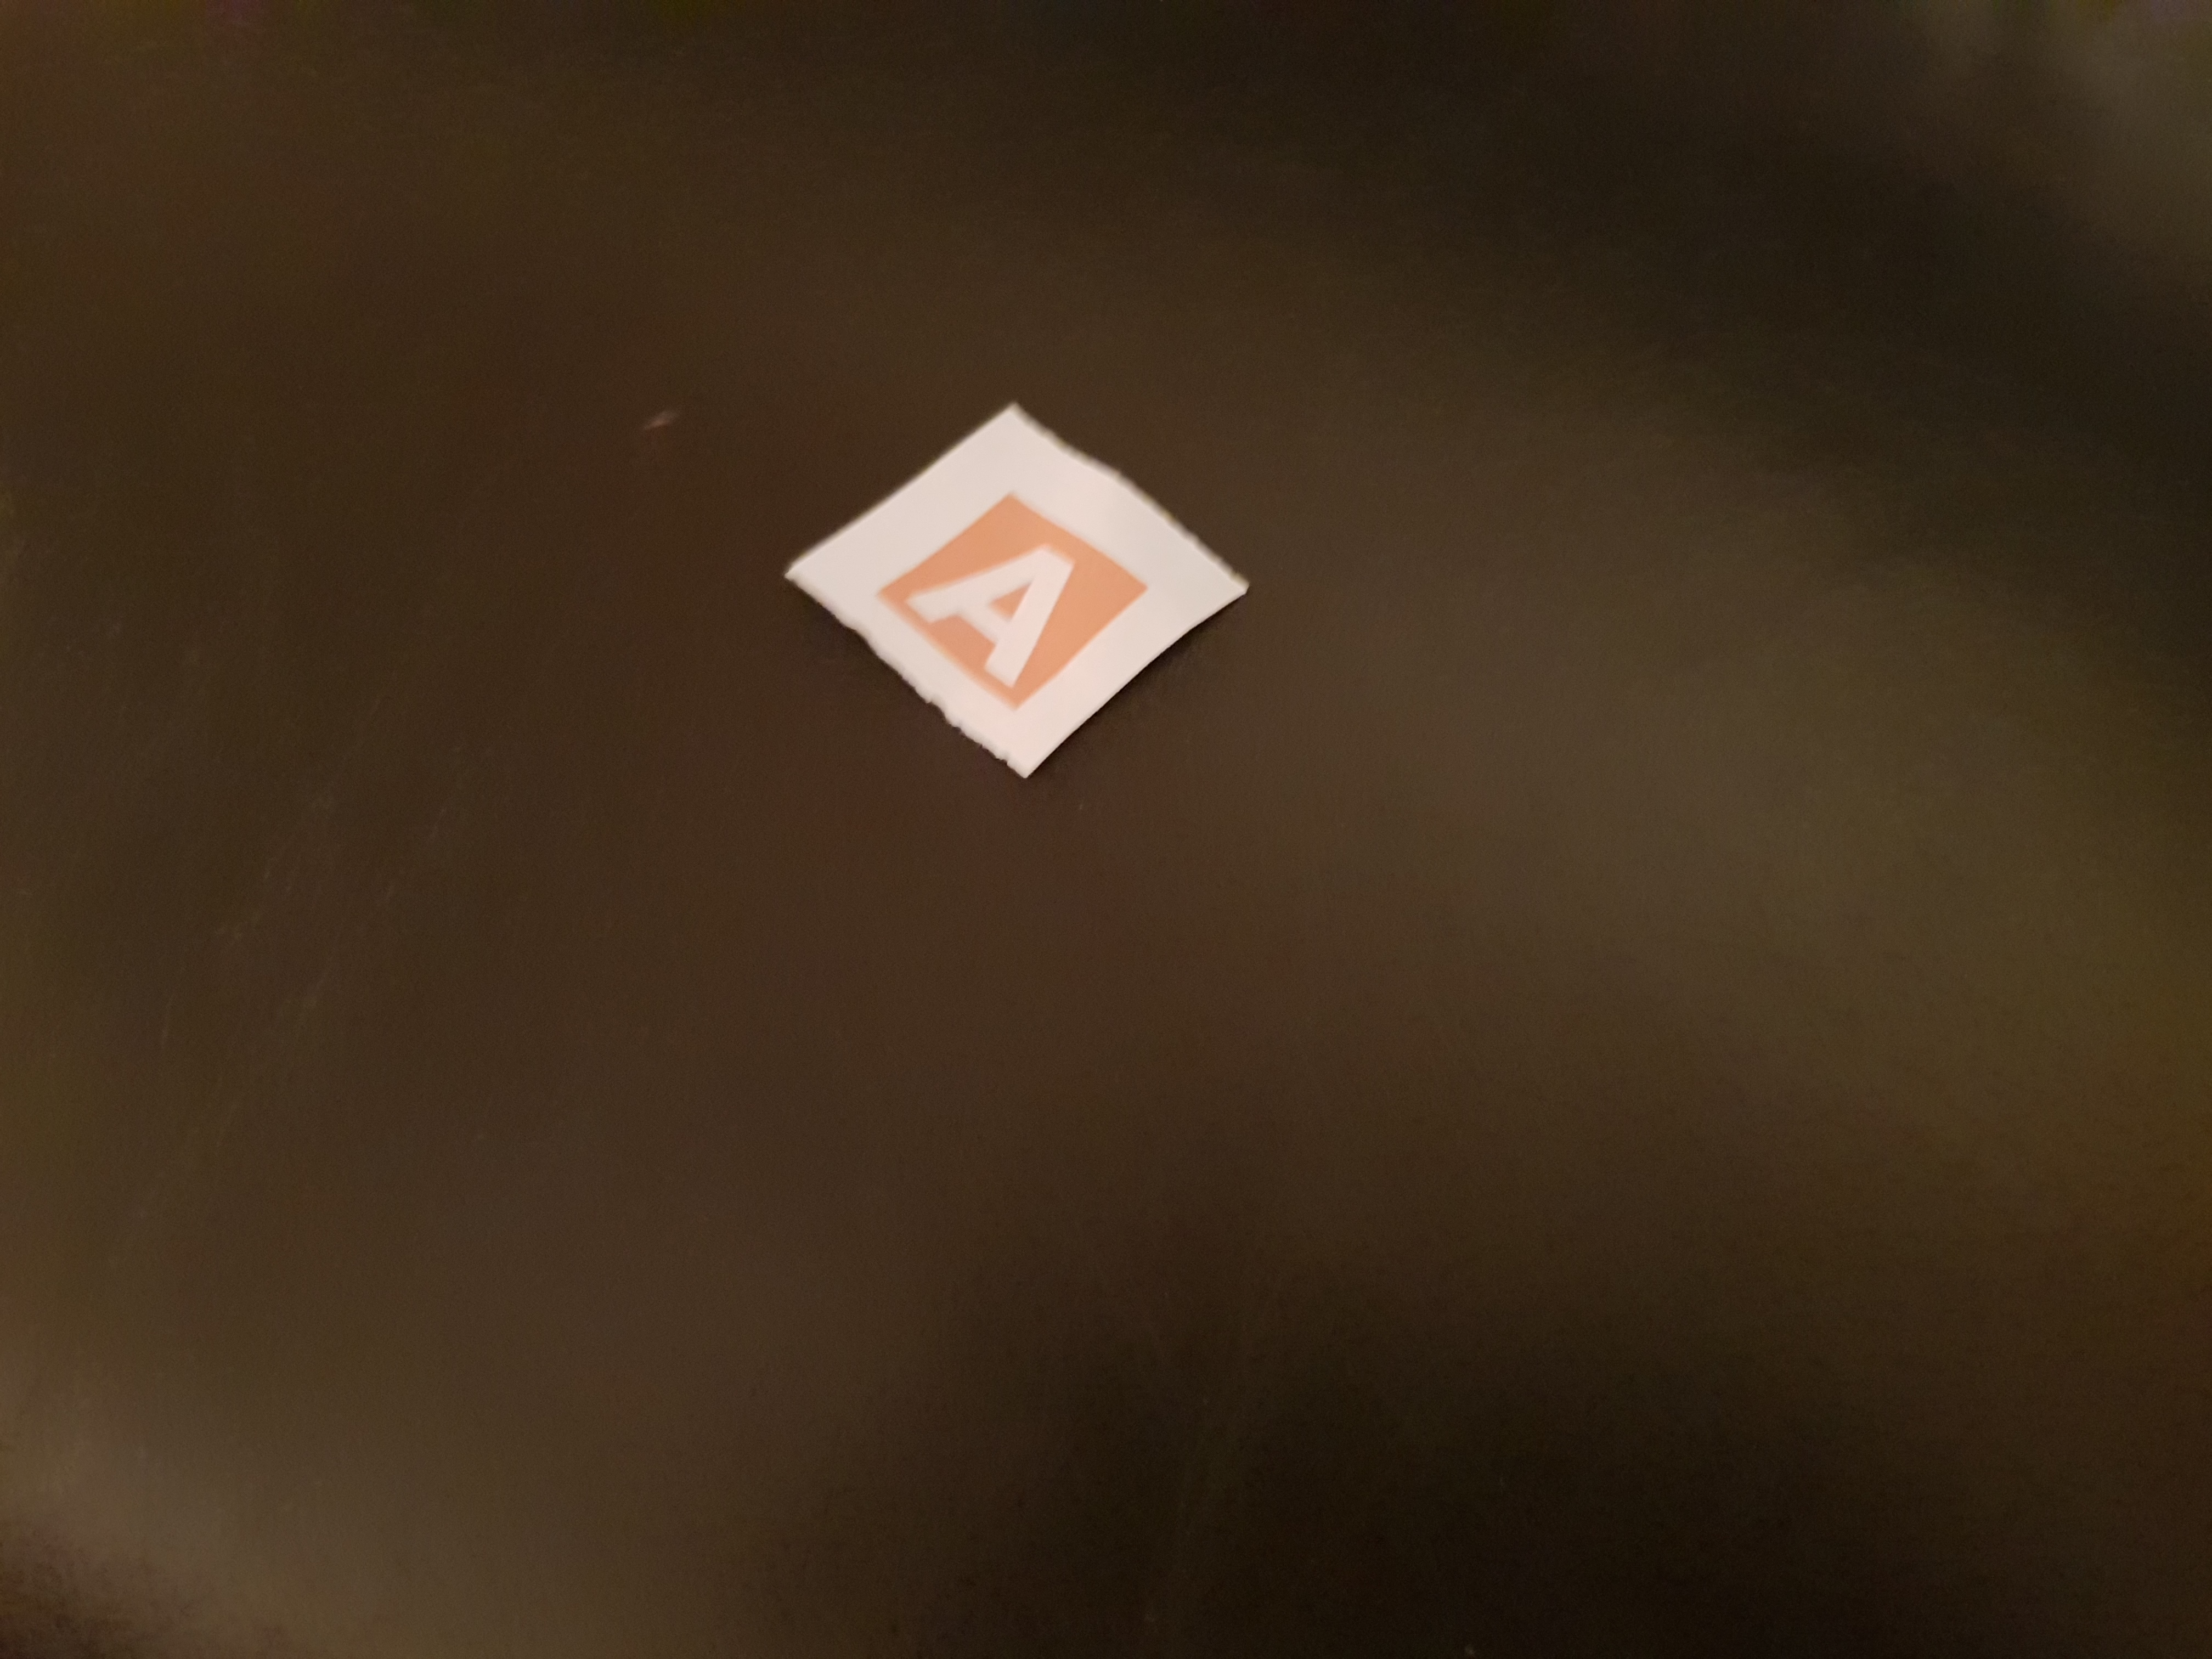orange marker: (798, 410, 1244, 784)
